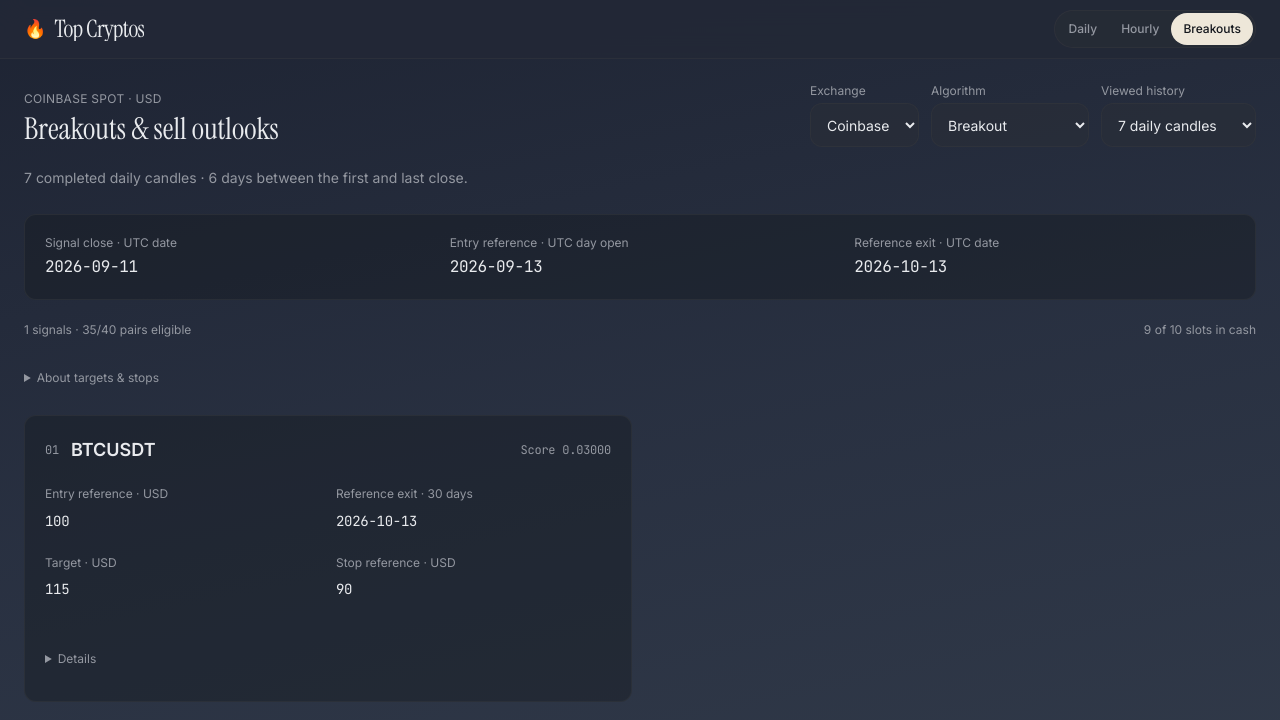
exchange change clears stale quotes, carries the exchange in the URL and accepts only its matching response
The image size is (1280, 720).
Select "Kraken" in the dropdown named "OHLC exchange": (864,125) [810,103,919,147]
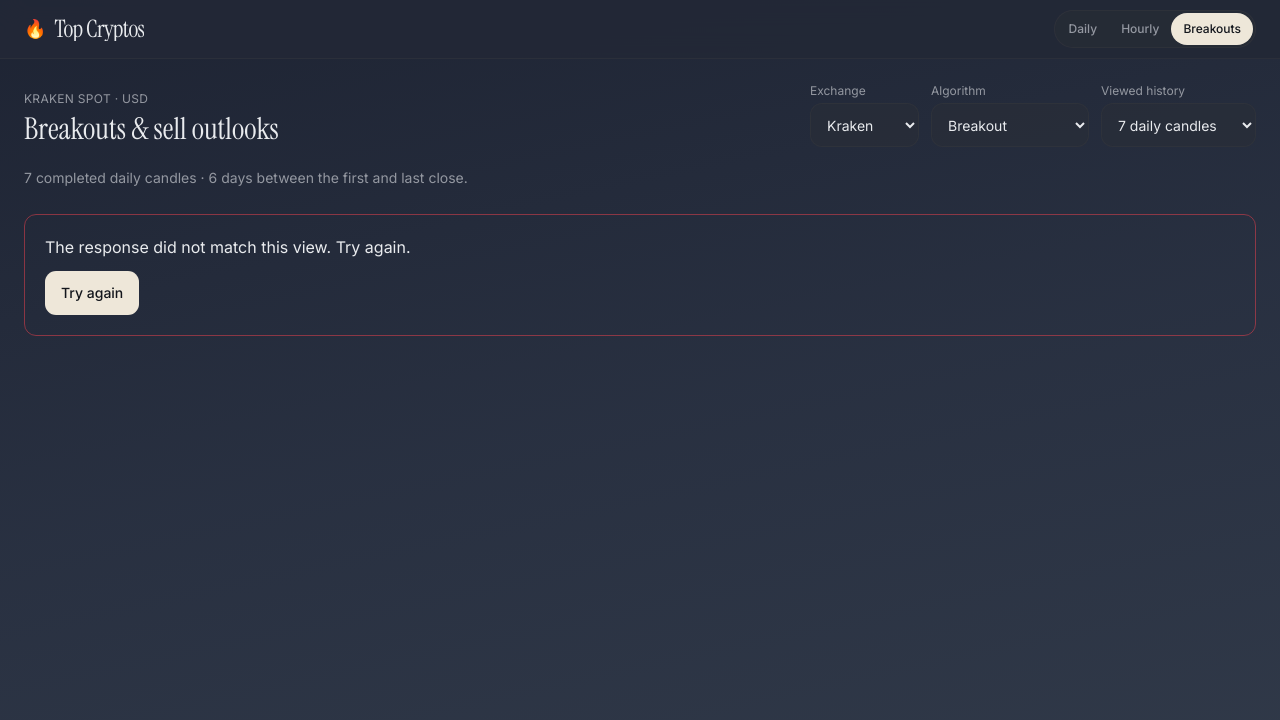
Now the message "The response did not match this view. Try again. Try again" is shown, box [24,214,1256,336]
Now the text "BTCUSDT" is gone
